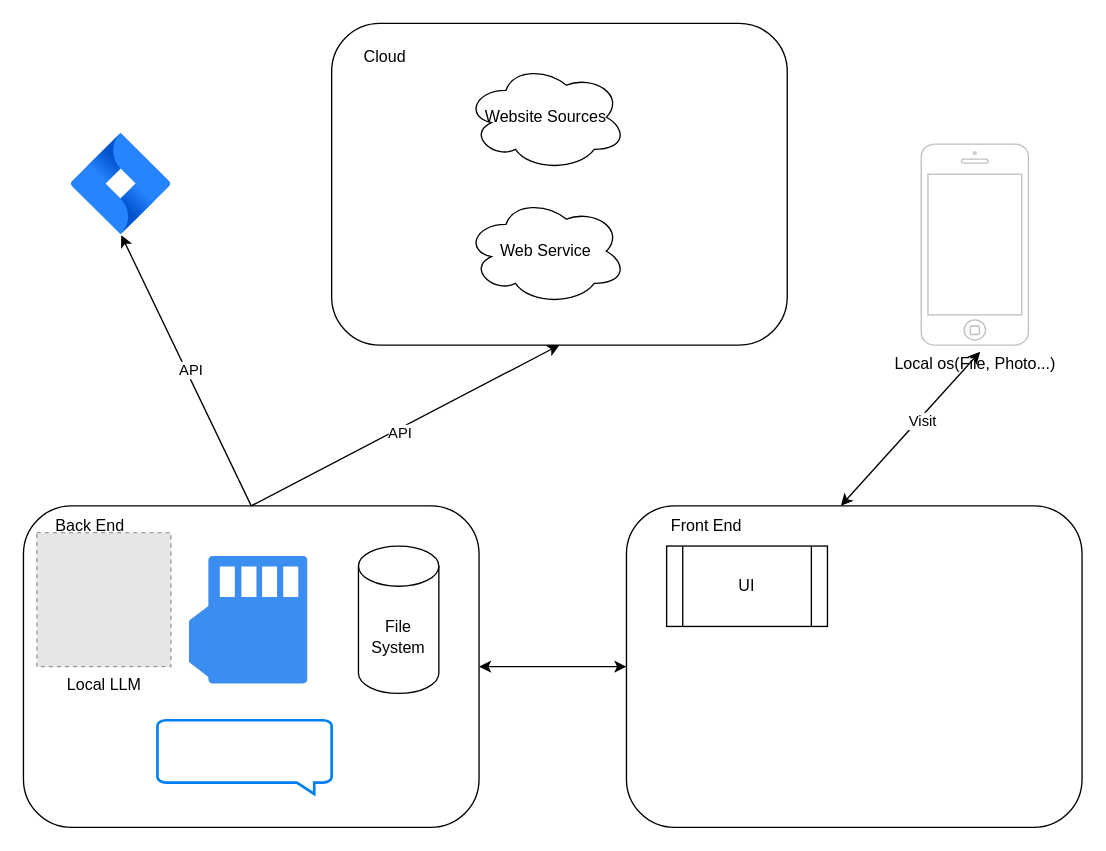
This 1106x851 diagram has some shape labels left out. Grey dashed boxes stand in for pictures. Here are the shapes that lost their labels. From the top down, the centre of each, then its label:
At (x=120, y=183): "Other Software".
At (x=247, y=619): "User Memory(Preference...)".
At (x=243, y=756): "Community Settings".
